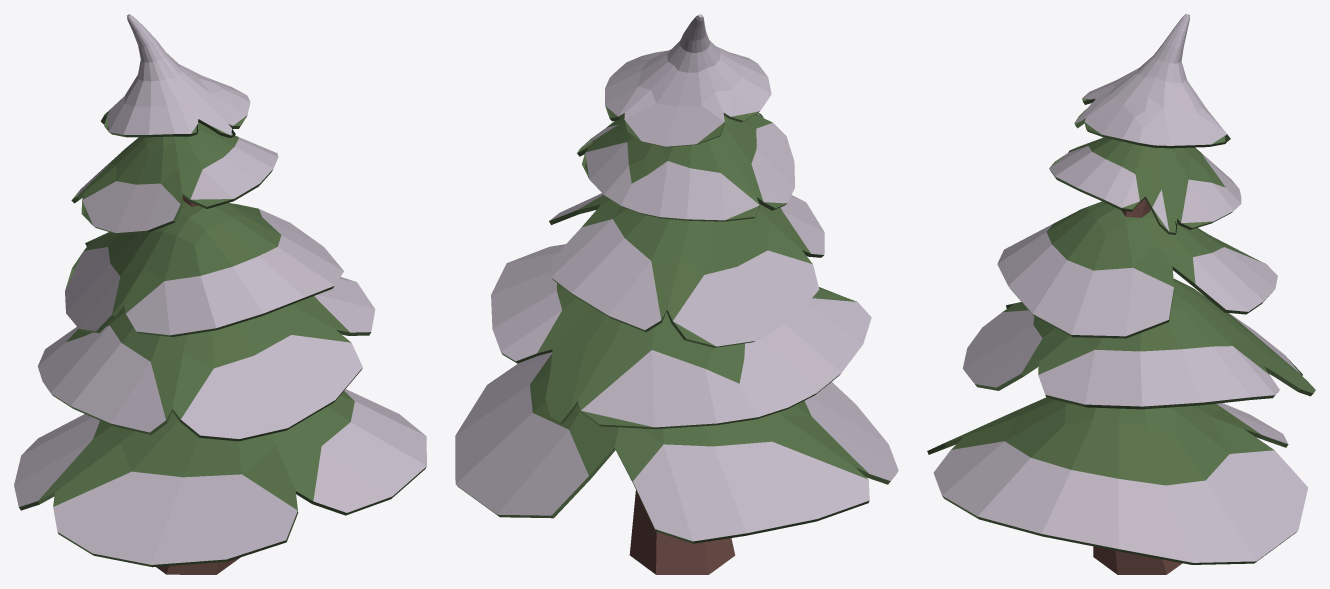
The model's file is pinetree_snow_1.glb.
The picture shows the model from 3 angles, left to right: view 1: azimuth 30°, elevation 25°; view 2: azimuth 150°, elevation 25°; view 3: azimuth 270°, elevation 25°; orthographic projection. The views are drawn at different scales.
Visible parts, largest first — view 1: PineTree_Snow_1; view 2: PineTree_Snow_1; view 3: PineTree_Snow_1.
Part boxes in pixels (x1,y1,x2,y2): PineTree_Snow_1: (14, 14, 426, 574); PineTree_Snow_1: (455, 14, 898, 574); PineTree_Snow_1: (927, 14, 1315, 574).
Size of the model in its own units: 4.69 by 6.48 by 4.36.
